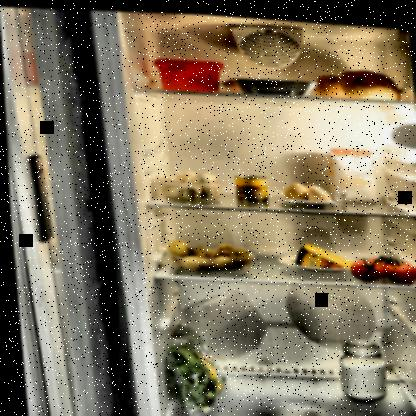butter: (150, 52, 228, 93)
cheese: (291, 236, 361, 268)
corn: (232, 169, 269, 201)
eggs: (282, 176, 332, 201)
mushrooms: (154, 163, 223, 200)
potato: (164, 232, 255, 274)
spinach: (155, 315, 228, 415)
sweet_potato: (309, 59, 404, 99)
tomato: (347, 245, 415, 282)
